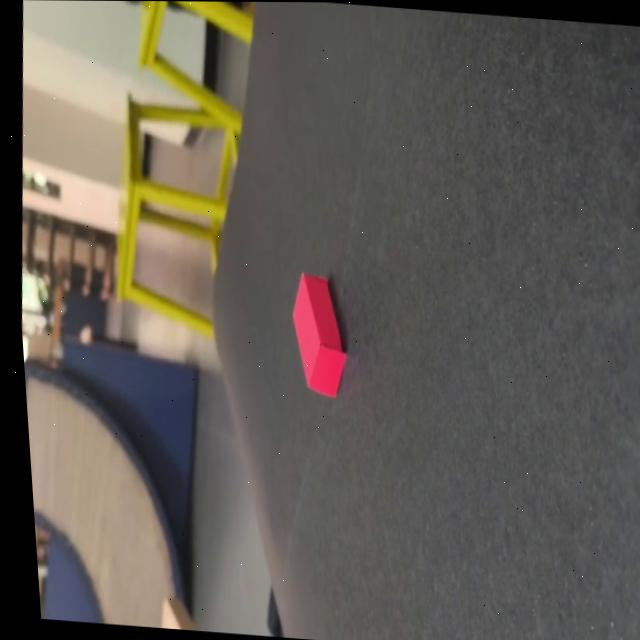red block: (280, 268, 354, 398)
